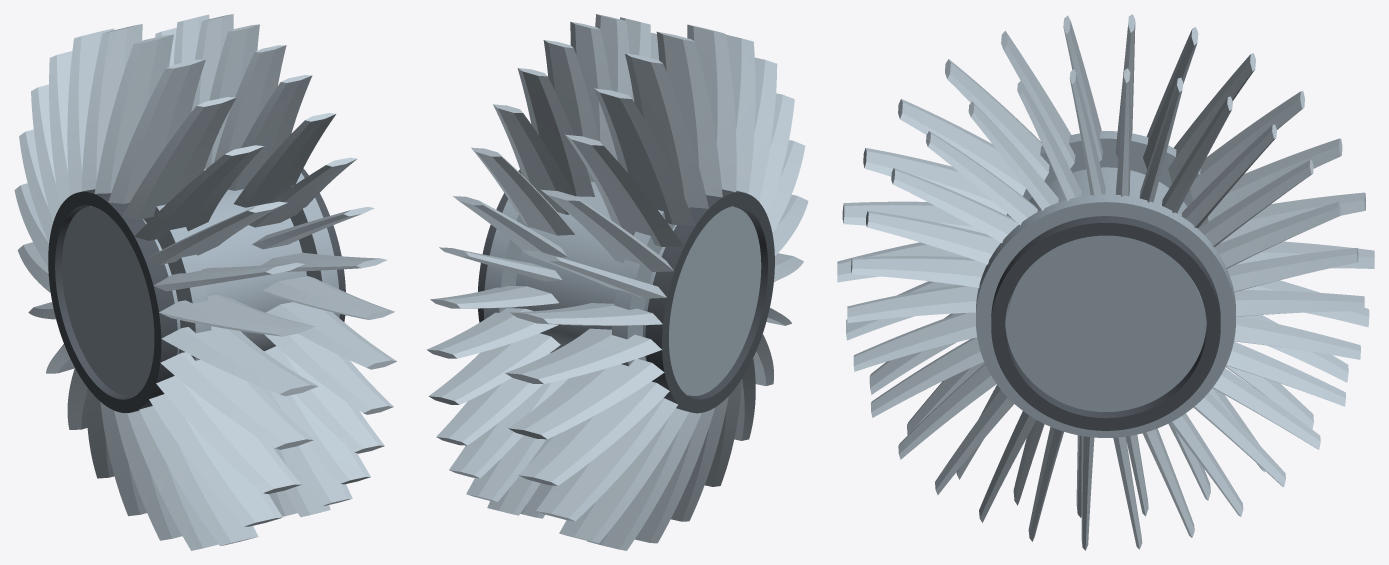
The model's file is compressor-cassette.glb.
3 renders of one model, left to right at view 1: azimuth 30°, elevation 25°; view 2: azimuth 150°, elevation 25°; view 3: azimuth 270°, elevation 25°, orthographic.
Parts seen in each view (by area): view 1: compressor-cassette - blade, compressor-cassette - steel, compressor-cassette - seal; view 2: compressor-cassette - blade, compressor-cassette - steel, compressor-cassette - seal; view 3: compressor-cassette - blade, compressor-cassette - steel, compressor-cassette - seal.
Boxes of the visible parts, left/top/right/bottom form: compressor-cassette - blade: left=14, top=14, right=396, bottom=550; compressor-cassette - steel: left=62, top=173, right=339, bottom=395; compressor-cassette - seal: left=48, top=168, right=345, bottom=412; compressor-cassette - blade: left=427, top=14, right=808, bottom=550; compressor-cassette - steel: left=483, top=174, right=761, bottom=395; compressor-cassette - seal: left=478, top=169, right=774, bottom=413; compressor-cassette - blade: left=837, top=14, right=1374, bottom=550; compressor-cassette - steel: left=976, top=131, right=1235, bottom=437; compressor-cassette - seal: left=991, top=216, right=1220, bottom=430.
Size of the model in its own units: 0.6494 by 1.61 by 1.61.
